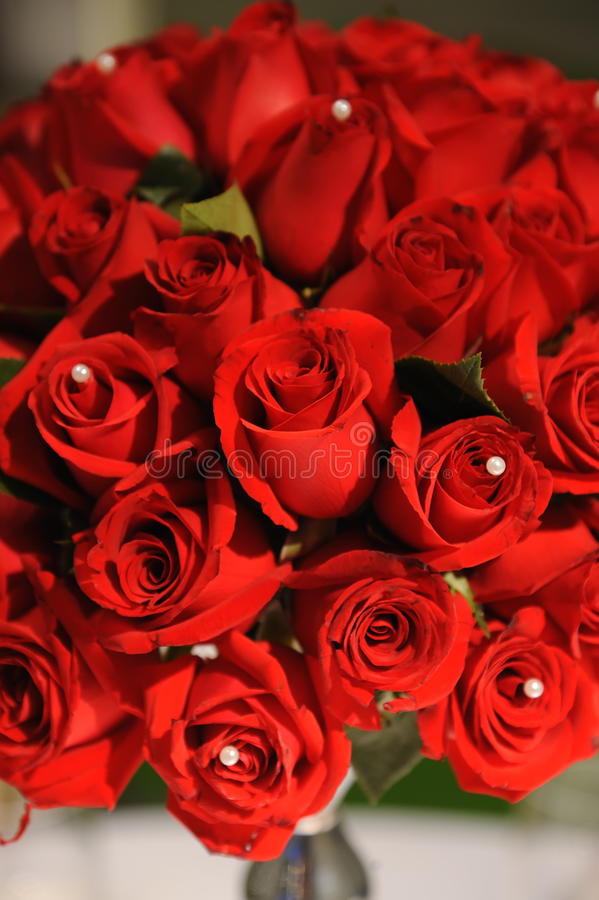RedRose: (223, 317, 393, 524), (70, 476, 269, 647), (293, 548, 472, 717), (29, 343, 219, 498), (0, 605, 151, 800), (55, 57, 256, 188), (26, 168, 144, 339), (378, 188, 492, 363), (188, 686, 330, 826), (494, 607, 599, 780), (428, 428, 557, 564), (166, 227, 291, 365), (262, 105, 354, 271), (518, 310, 599, 435)
